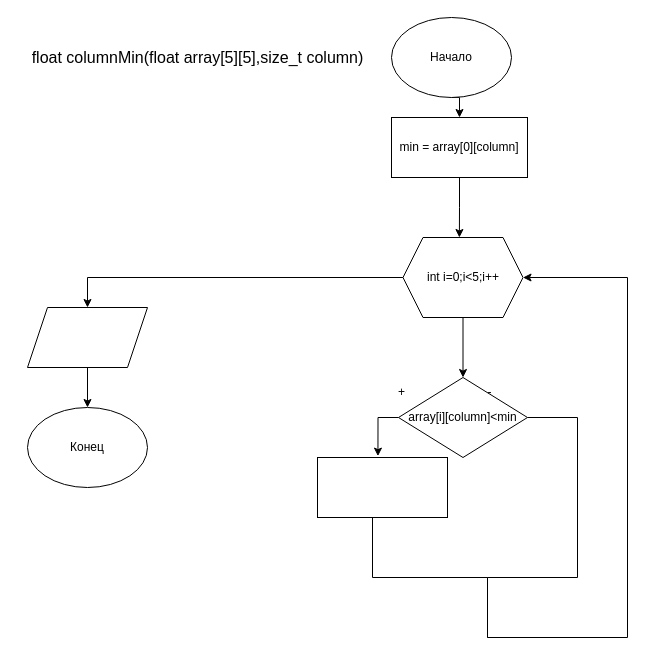
Image size: 653x663. Some labels were removed from this diagram. Each missing label, with the centre of its shape:
"min = array[i][column]" goes at point (382, 487).
"return min" goes at point (87, 337).
